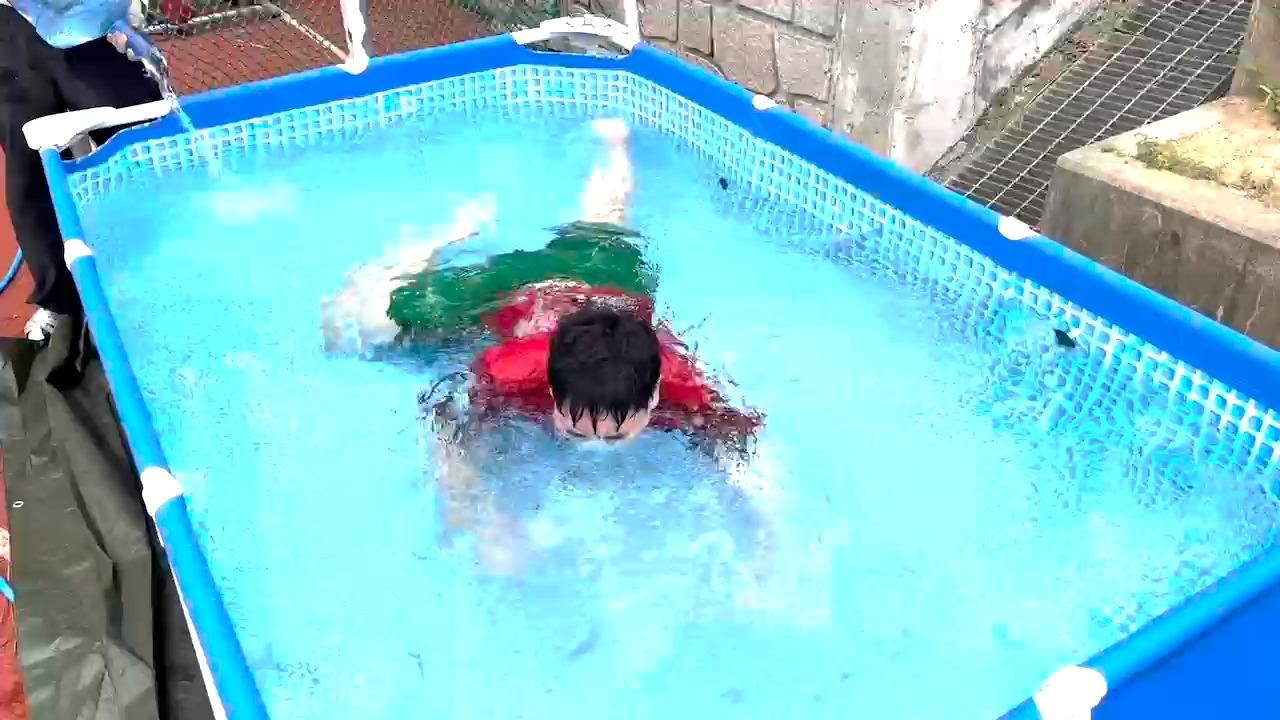Drowning: (295, 89, 760, 552)
